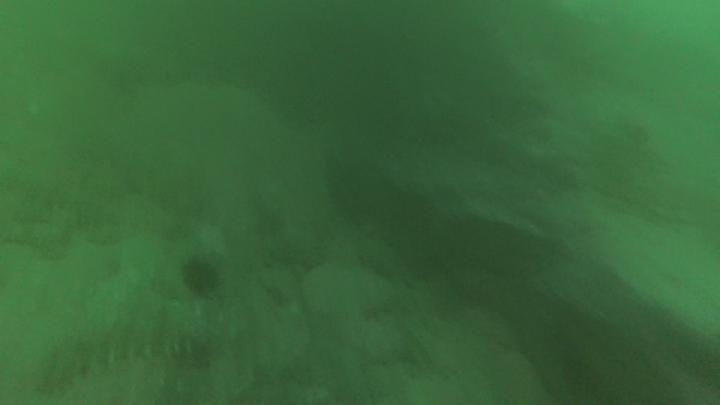echinus: (179, 255, 223, 299)
holothurian: (34, 312, 215, 389)
